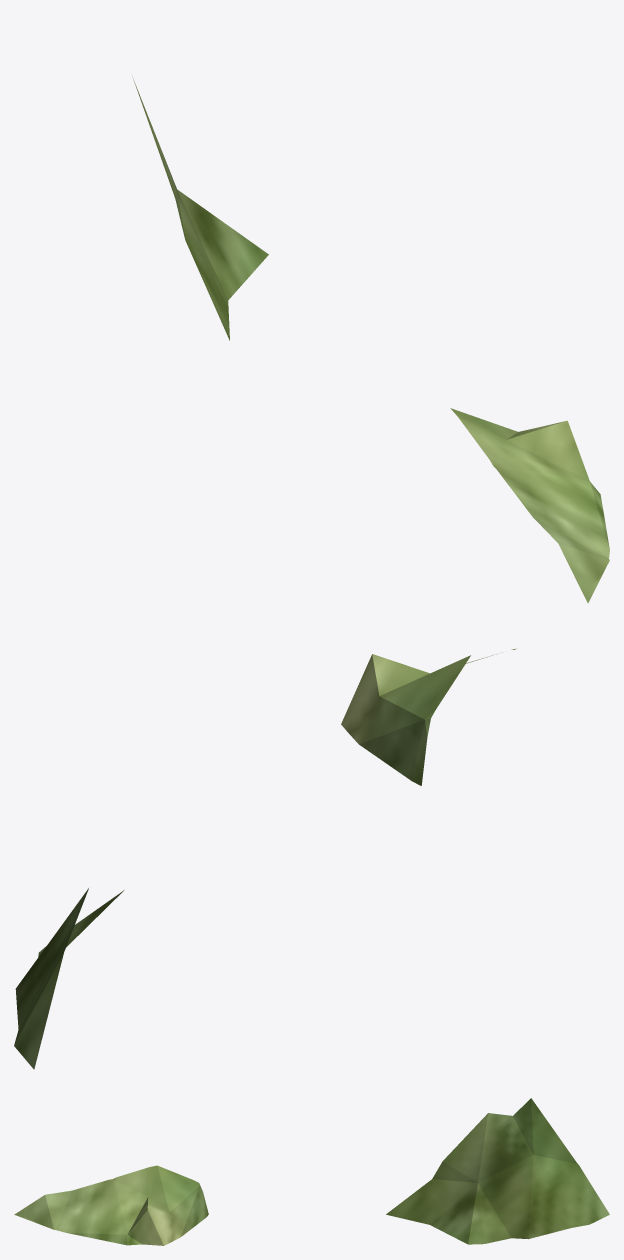
3 views of the same model, one above another, from view 1: azimuth 30°, elevation 25°; view 2: azimuth 150°, elevation 25°; view 3: azimuth 270°, elevation 25° (orthographic). The views are drawn at different scales.
Size of the model in its own units: 0.1267 by 0.2199 by 1.02.
1 material, 1 textured.
